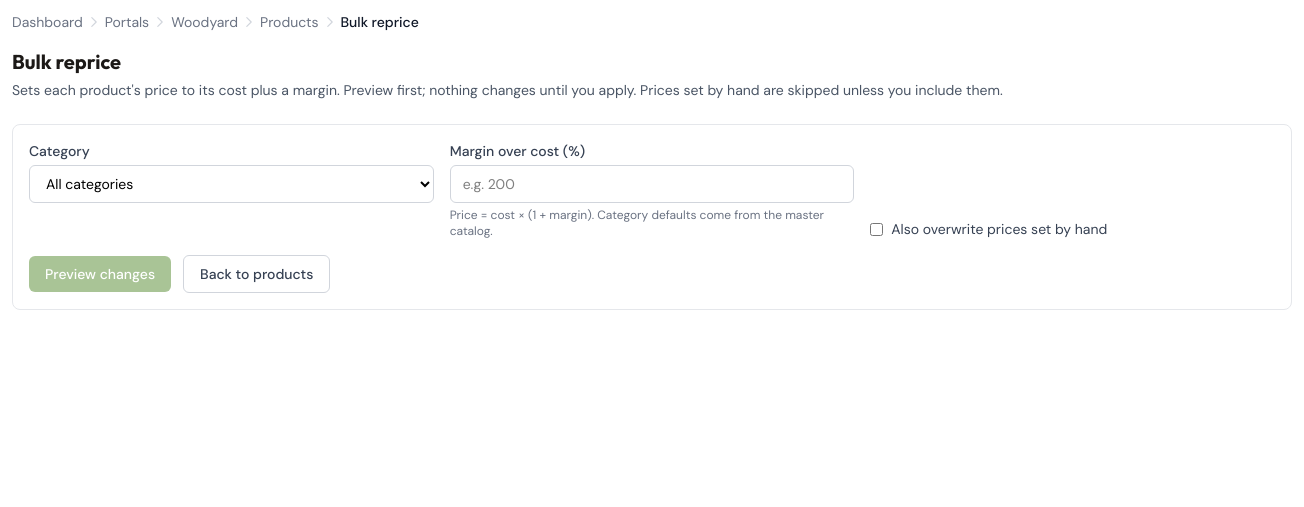
Test: ProductRepricePage › previews as a dry run, shows skips, and only writes on apply
expect the heading "Bulk reprice" is shown: met, box [12,49,121,74]
Select "apparel (default 200%)" in the dropdown at (231, 184), box [29,165,434,203]
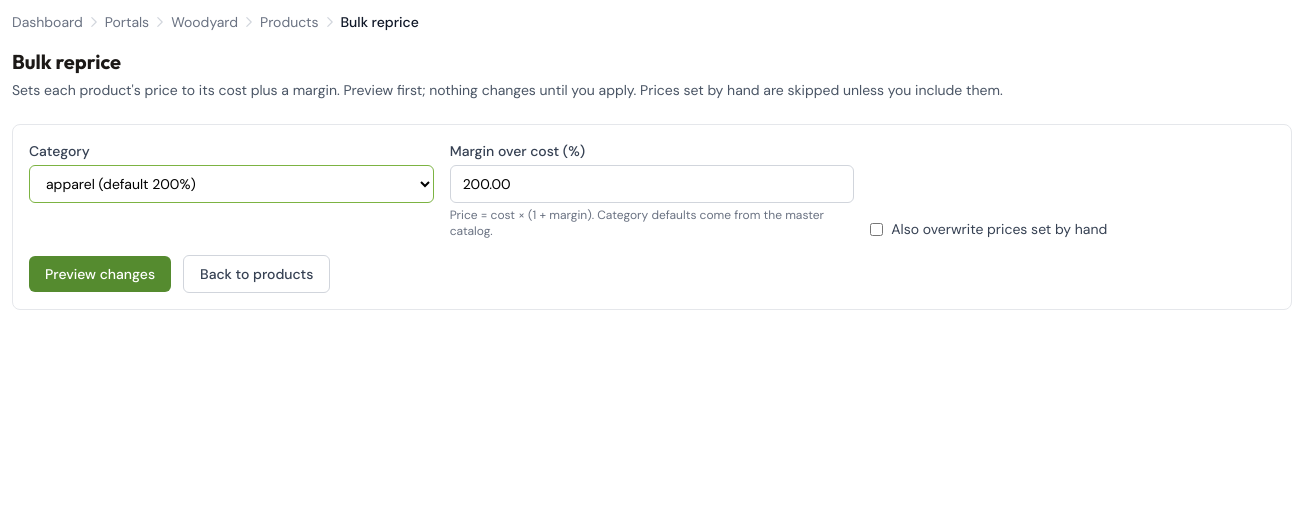
Click the button "Preview changes" at (100, 274), box [29,256,171,292]
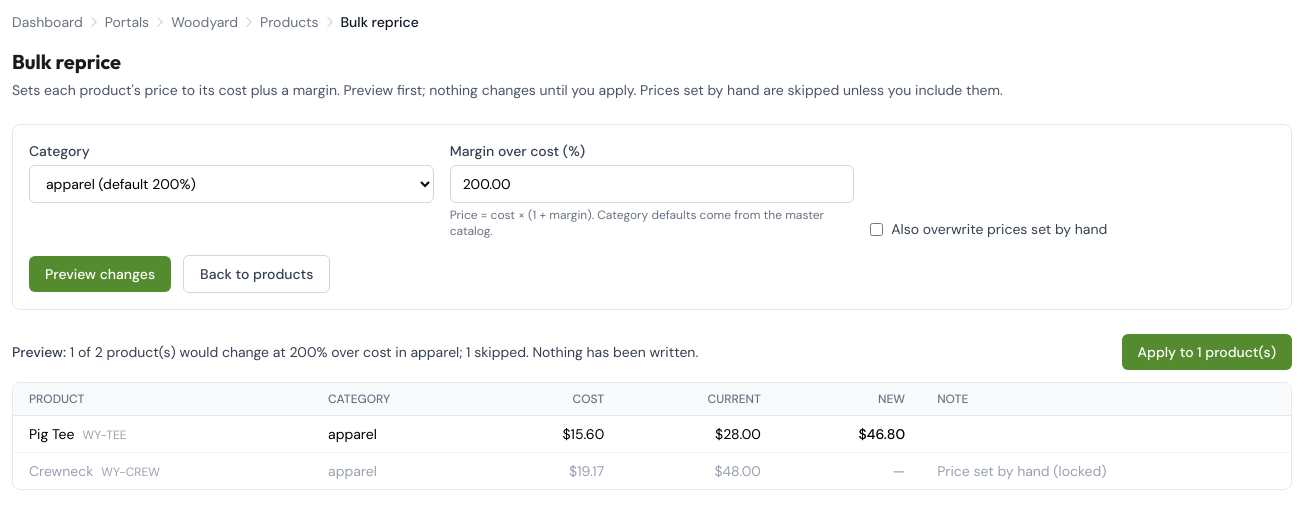
expect the text "Nothing has been written" is shown: met, box [470,343,698,361]
expect the text "$46.80" is shown: met, box [777,416,921,452]
expect the text "Price set by hand (locked)" is shown: met, box [921,452,1291,489]
Click the button "Apply to 1 product(s)" at (1207, 352), box [1122,334,1292,370]
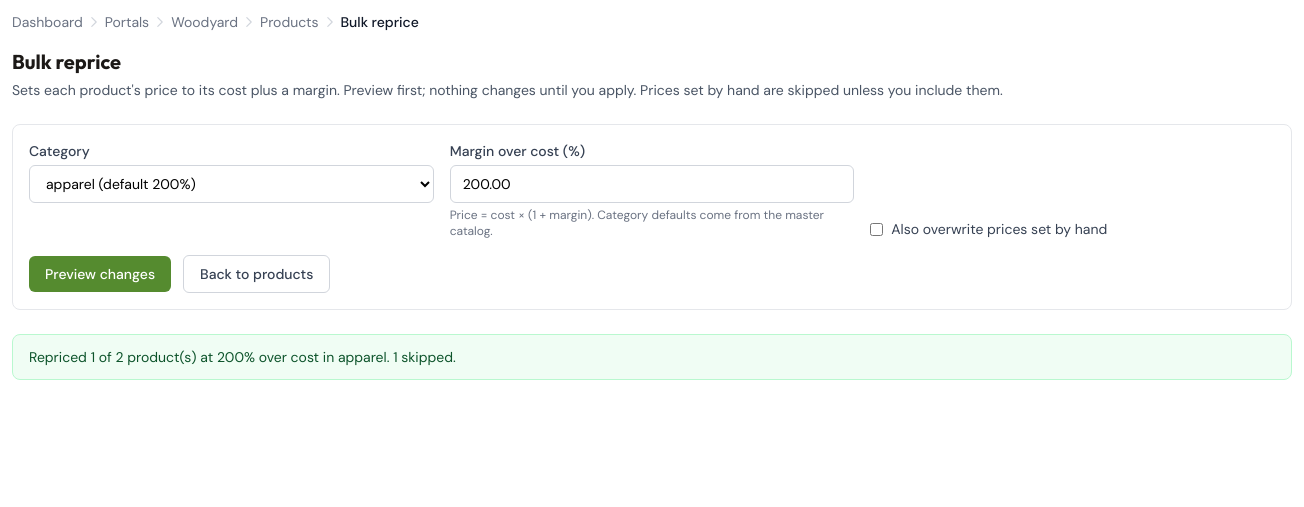
expect the text "Repriced 1 of 2 product(s)" is shown: met, box [12,334,1292,380]
